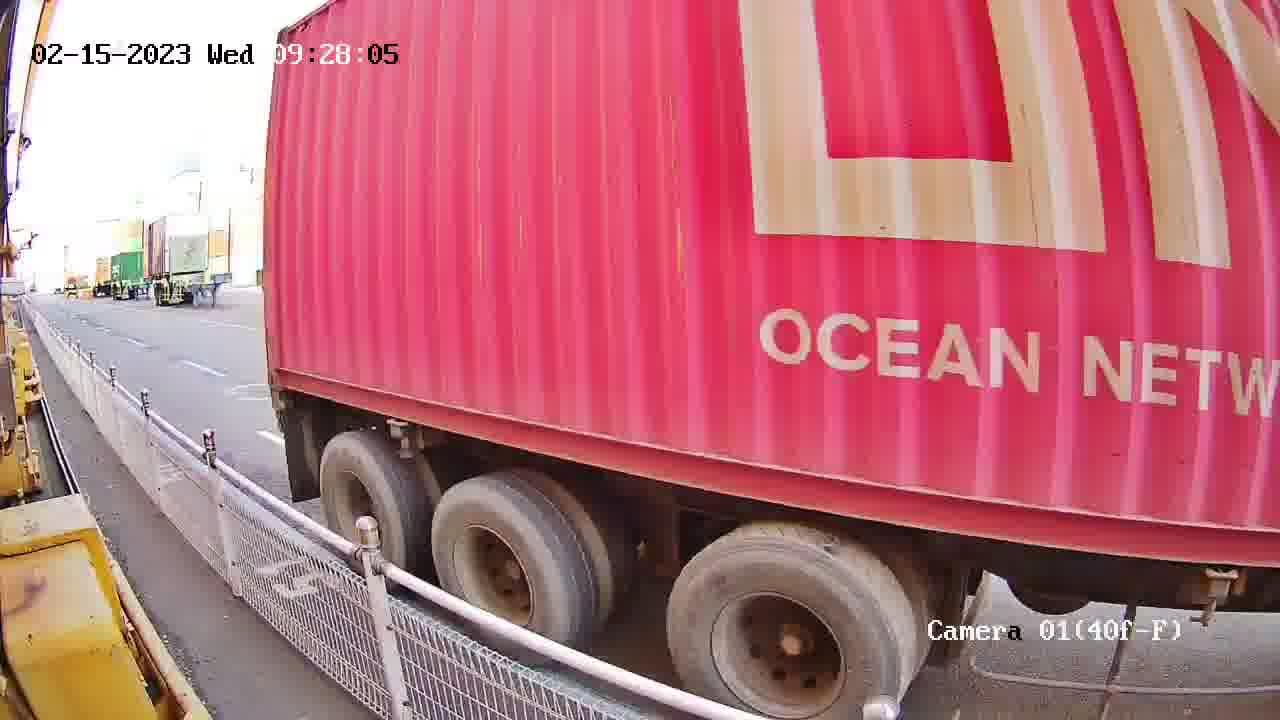Cone: (270, 391, 288, 410)
Hole_L: (265, 347, 307, 392)
Tire: (670, 546, 891, 719), (431, 483, 572, 640), (318, 436, 404, 568)
